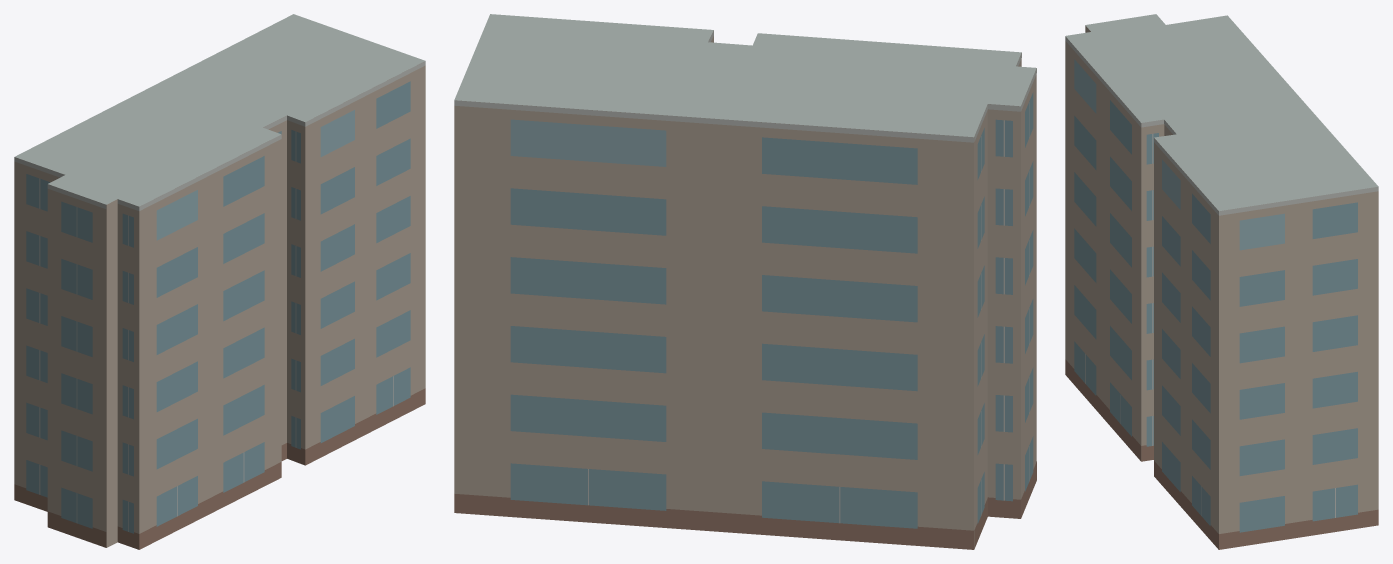
Rendered from survey-upis-33040541.glb.
The picture shows the model from 3 angles, left to right: view 1: azimuth 30°, elevation 25°; view 2: azimuth 150°, elevation 25°; view 3: azimuth 270°, elevation 25°; orthographic projection. The views are drawn at different scales.
Parts seen in each view (by area): view 1: survey-upis-33040541.tmp; view 2: survey-upis-33040541.tmp; view 3: survey-upis-33040541.tmp.
Part boxes in pixels (box(x1,y1,x2,y2)): survey-upis-33040541.tmp: box(14, 14, 425, 549); survey-upis-33040541.tmp: box(454, 14, 1036, 549); survey-upis-33040541.tmp: box(1065, 14, 1378, 549).
Bounding box in the file's own units: 22.87 × 18.3 × 15.36.
